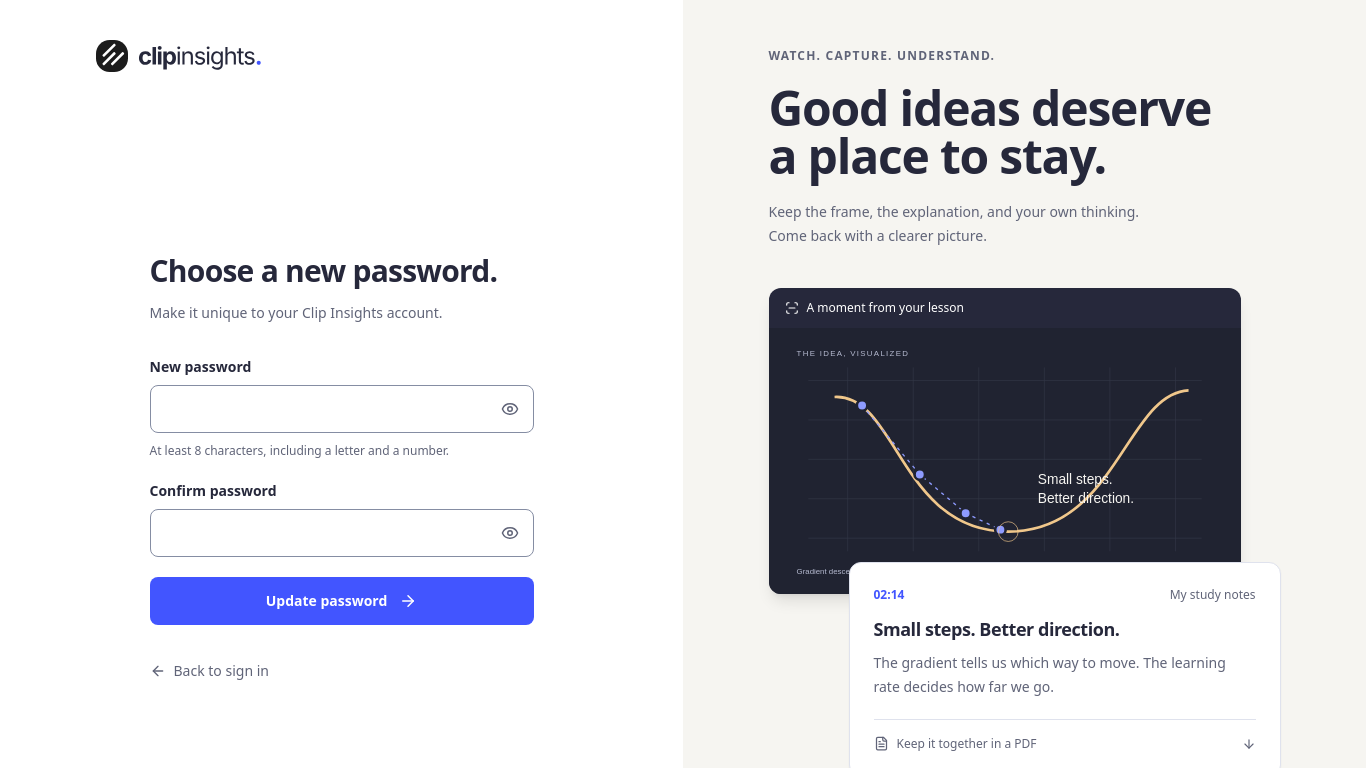
Test case: account recovery › blocks mismatched passwords and offers a new link when the reset token expires
In the password field labelled "New password": {"x": 342, "y": 409} [150,385,534,433], type "securepass1"
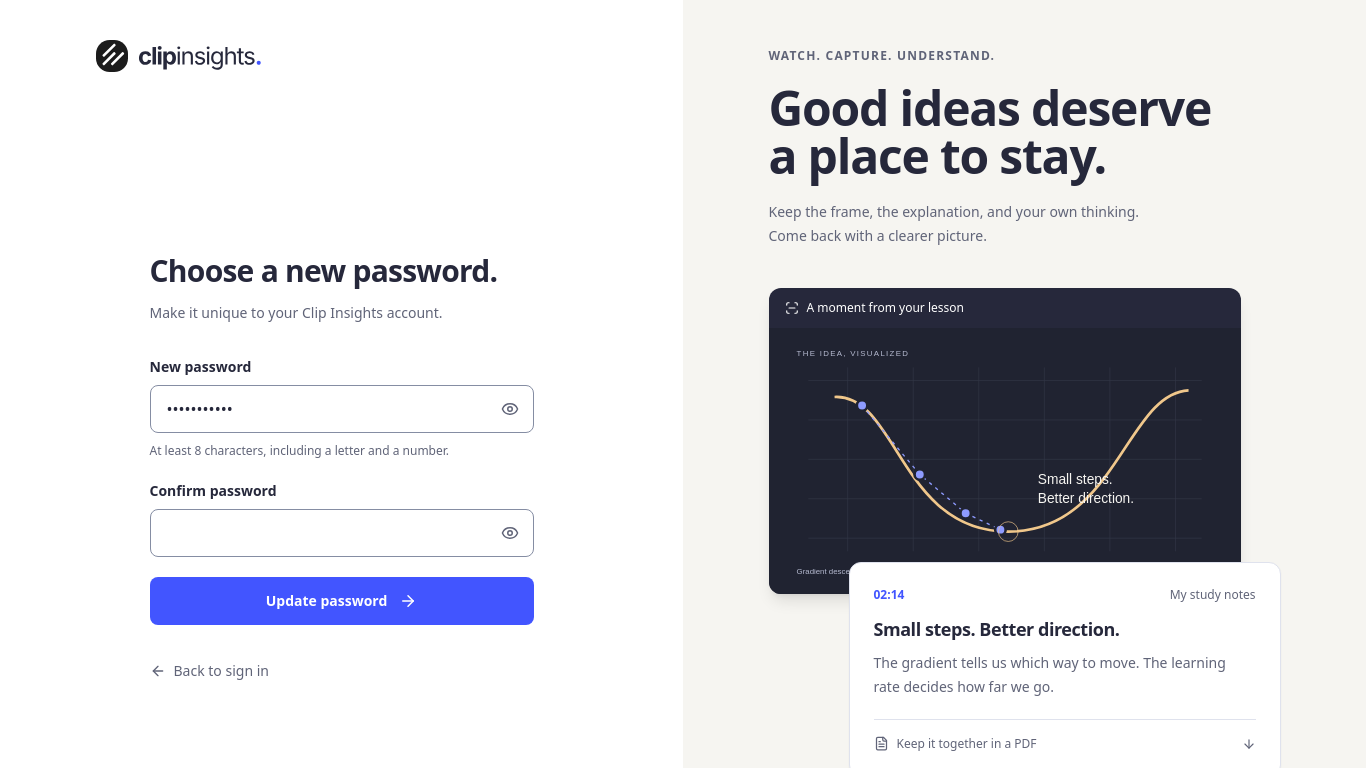
In the password field labelled "Confirm password": {"x": 342, "y": 533} [150,509,534,557], type "different1"
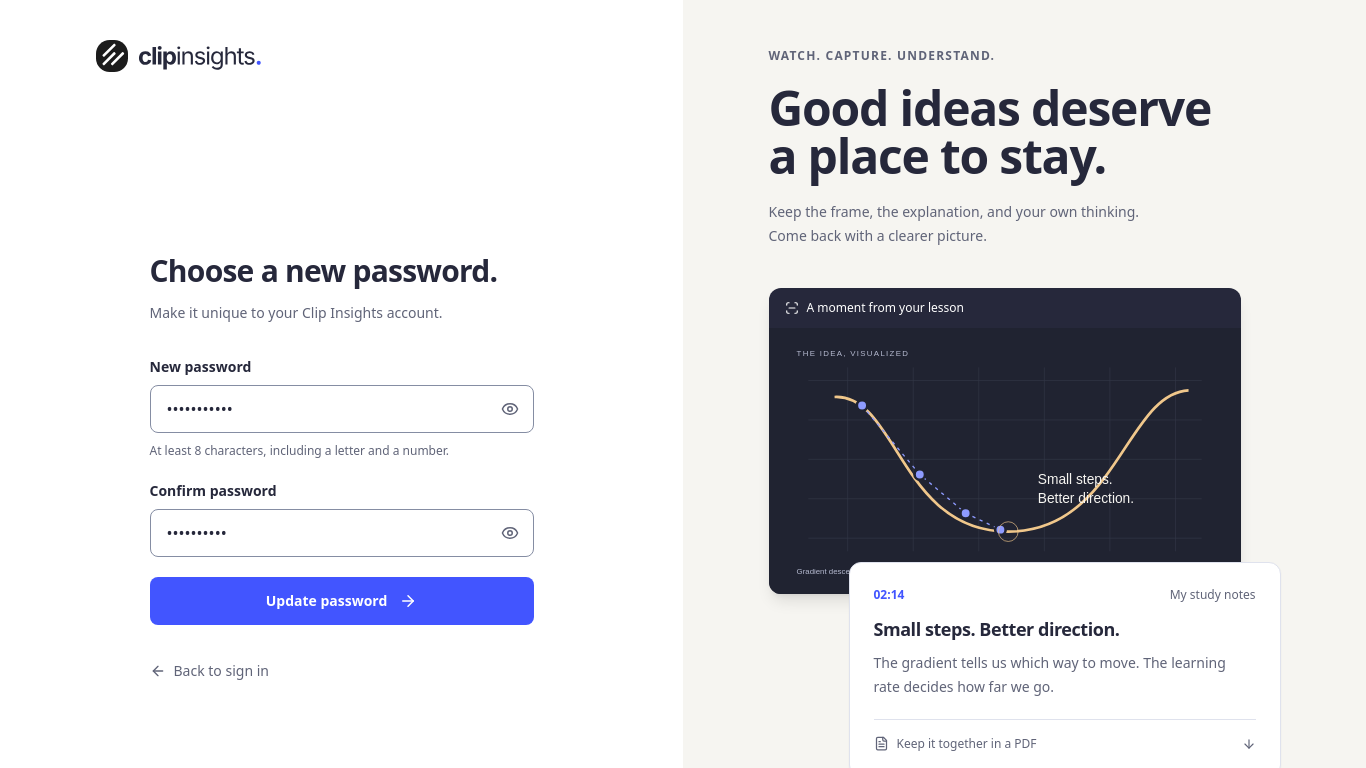
Click the button "Update password": {"x": 342, "y": 601} [150,577,534,625]
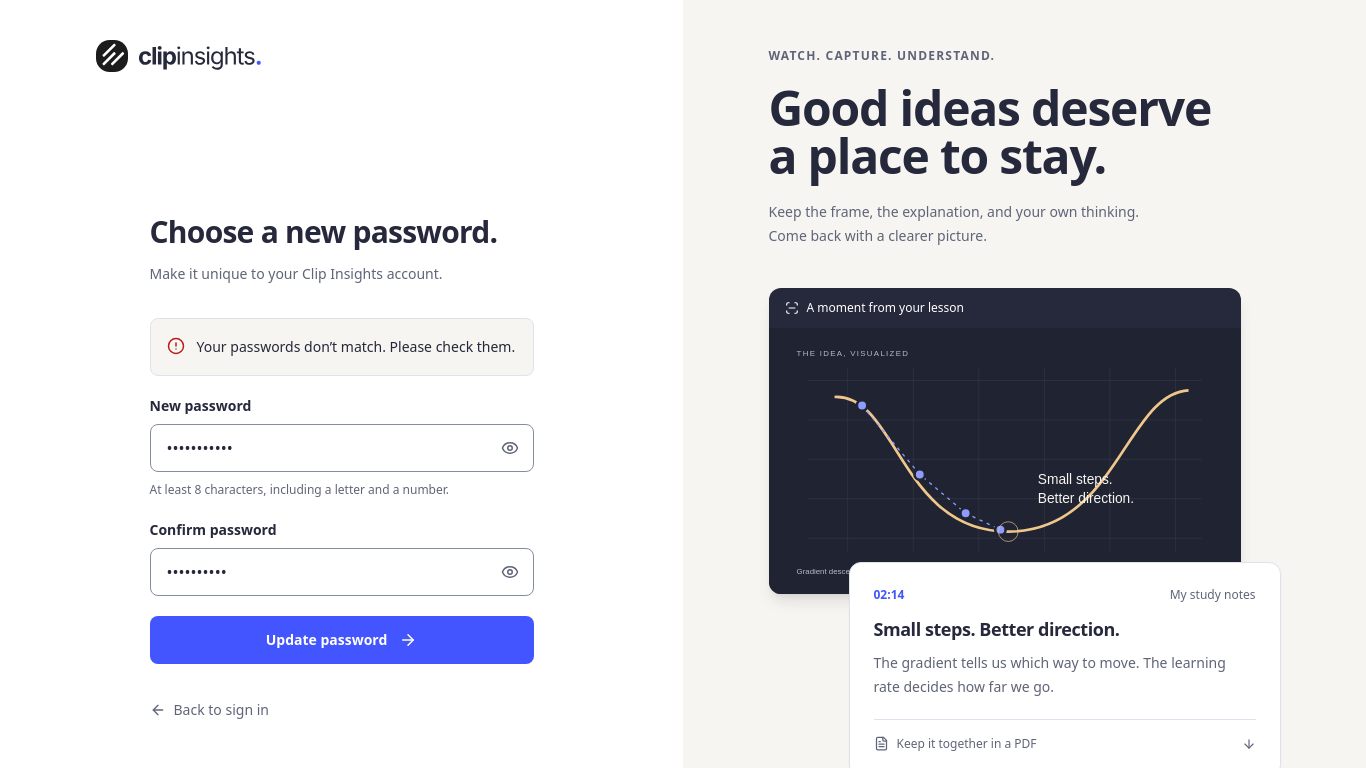
Check: the message shows "don’t match", box [196,337,515,356]
In the password field labelled "Confirm password": {"x": 342, "y": 572} [150,548,534,596], type "securepass1"
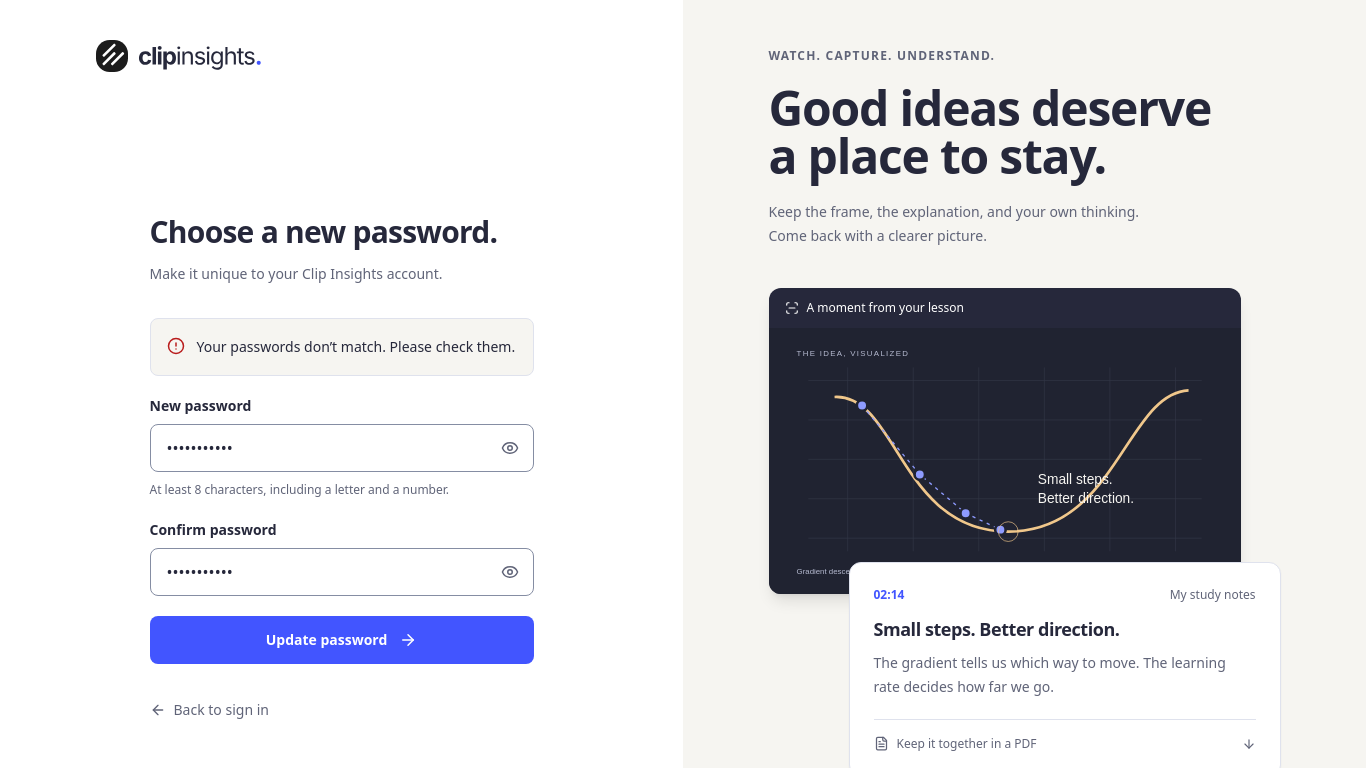
Click the button "Update password": {"x": 342, "y": 640} [150,616,534,664]
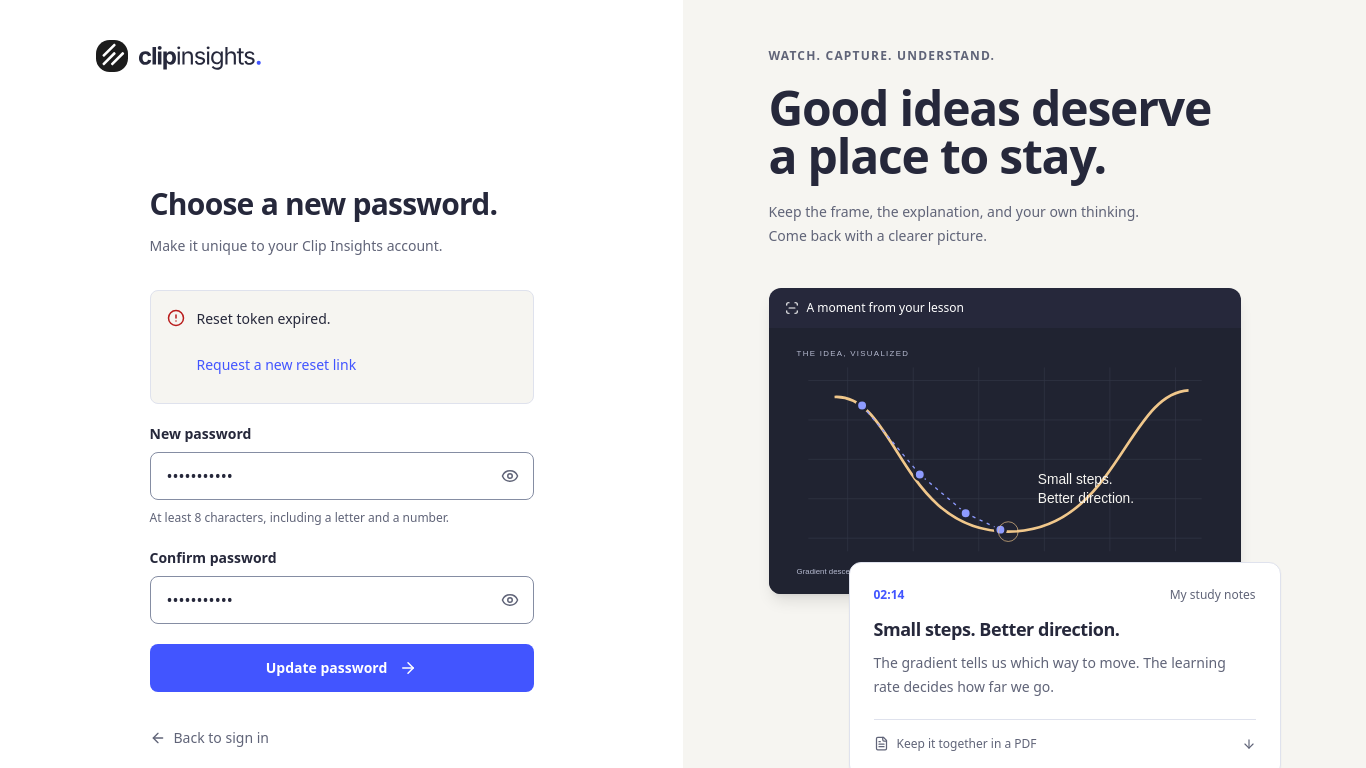
Check: the link "Request a new reset link" is shown, box [196,355,356,374]
